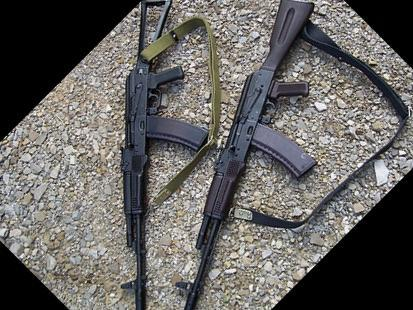larga: (173, 0, 317, 310), (120, 0, 211, 310)
